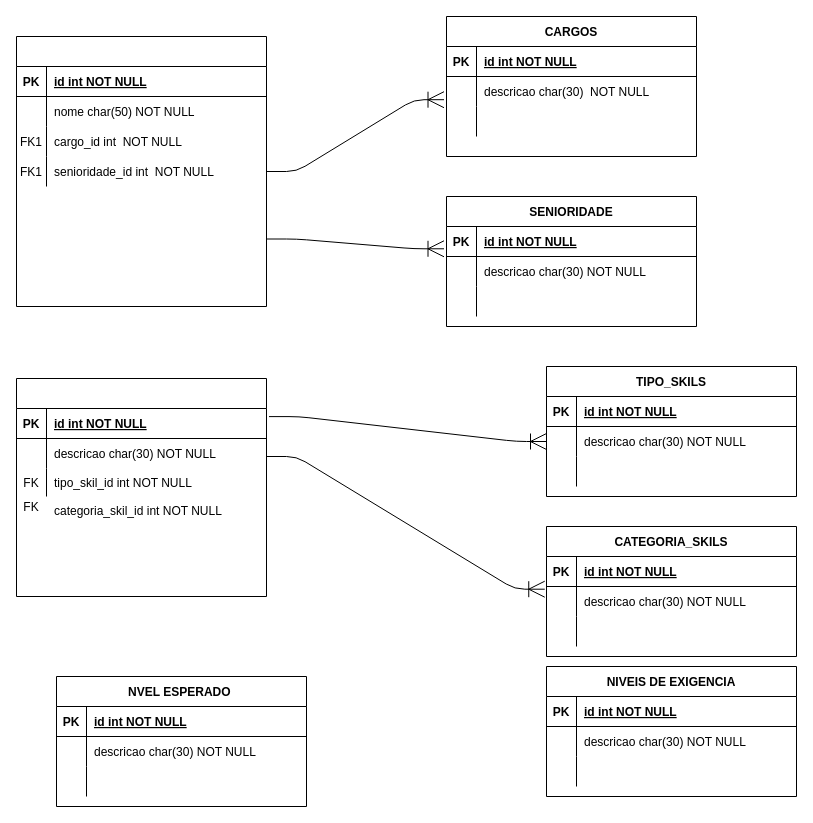
This 813x823 diagram has some shape labels left out. Each missing label, with the box of its shape:
PESSOAS: (16, 36, 266, 306)
SKILS: (16, 378, 266, 596)
